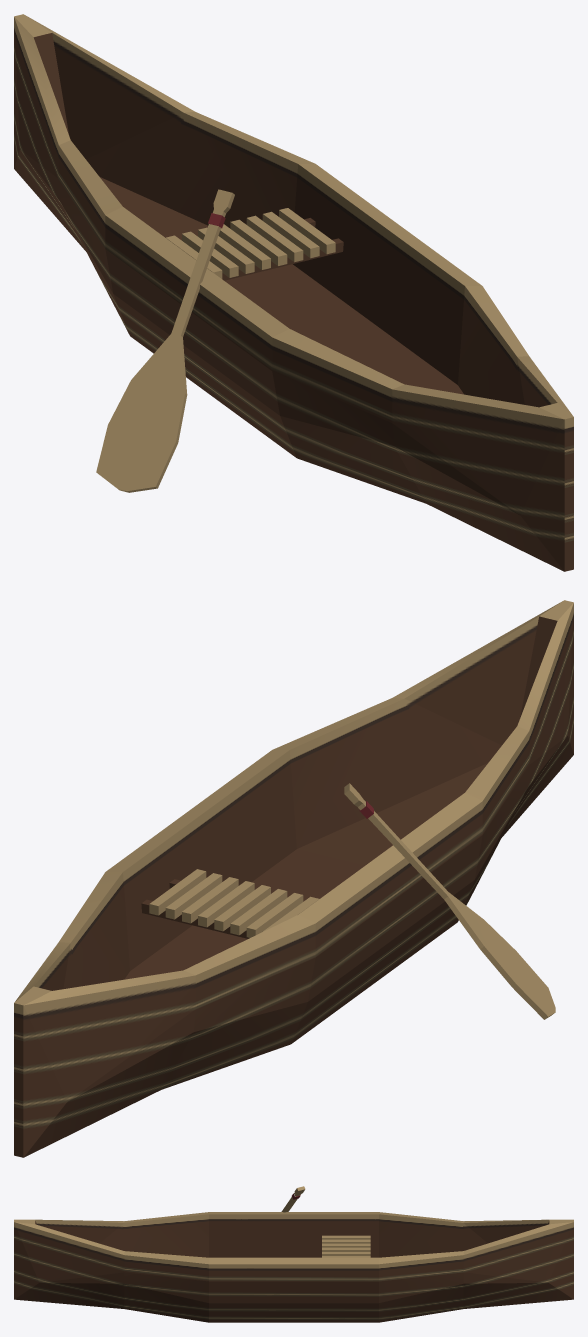
The picture shows the model from 3 angles, top to bottom: view 1: azimuth 30°, elevation 25°; view 2: azimuth 150°, elevation 25°; view 3: azimuth 270°, elevation 25°; orthographic projection. The views are drawn at different scales.
Parts seen in each view (by area): view 1: Canoe_1, Paddle_8; view 2: Canoe_1, Paddle_8; view 3: Canoe_1, Paddle_8.
Part boxes in pixels (left/top/right/bottom): Canoe_1: left=14, top=14, right=573, bottom=571; Paddle_8: left=96, top=189, right=234, bottom=492; Canoe_1: left=14, top=600, right=573, bottom=1157; Paddle_8: left=344, top=783, right=555, bottom=1019; Canoe_1: left=14, top=1212, right=573, bottom=1322; Paddle_8: left=281, top=1186, right=305, bottom=1212.
Size of the model in its own units: 205 by 134 by 589.
Materials: 1 (1 with a texture image).
